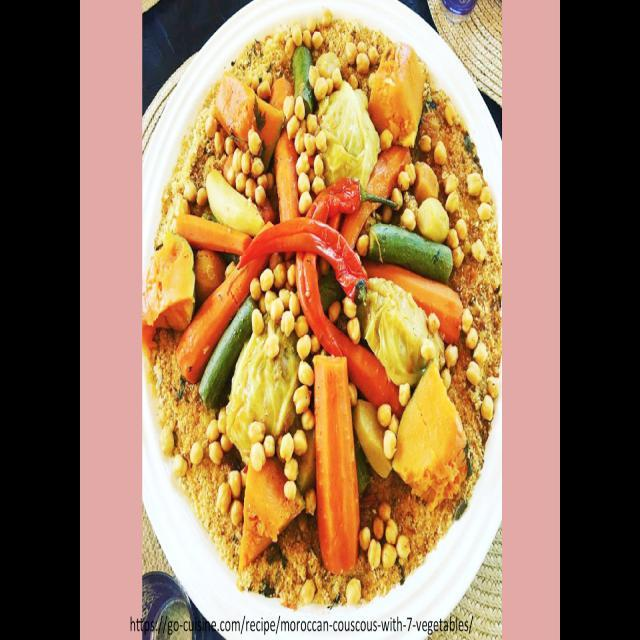Couscous: (143, 5, 501, 610)
